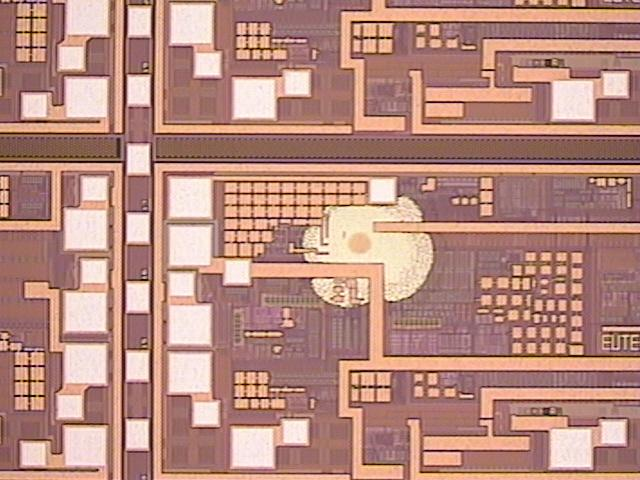BLOCK ETCH: (297, 178, 444, 318)
